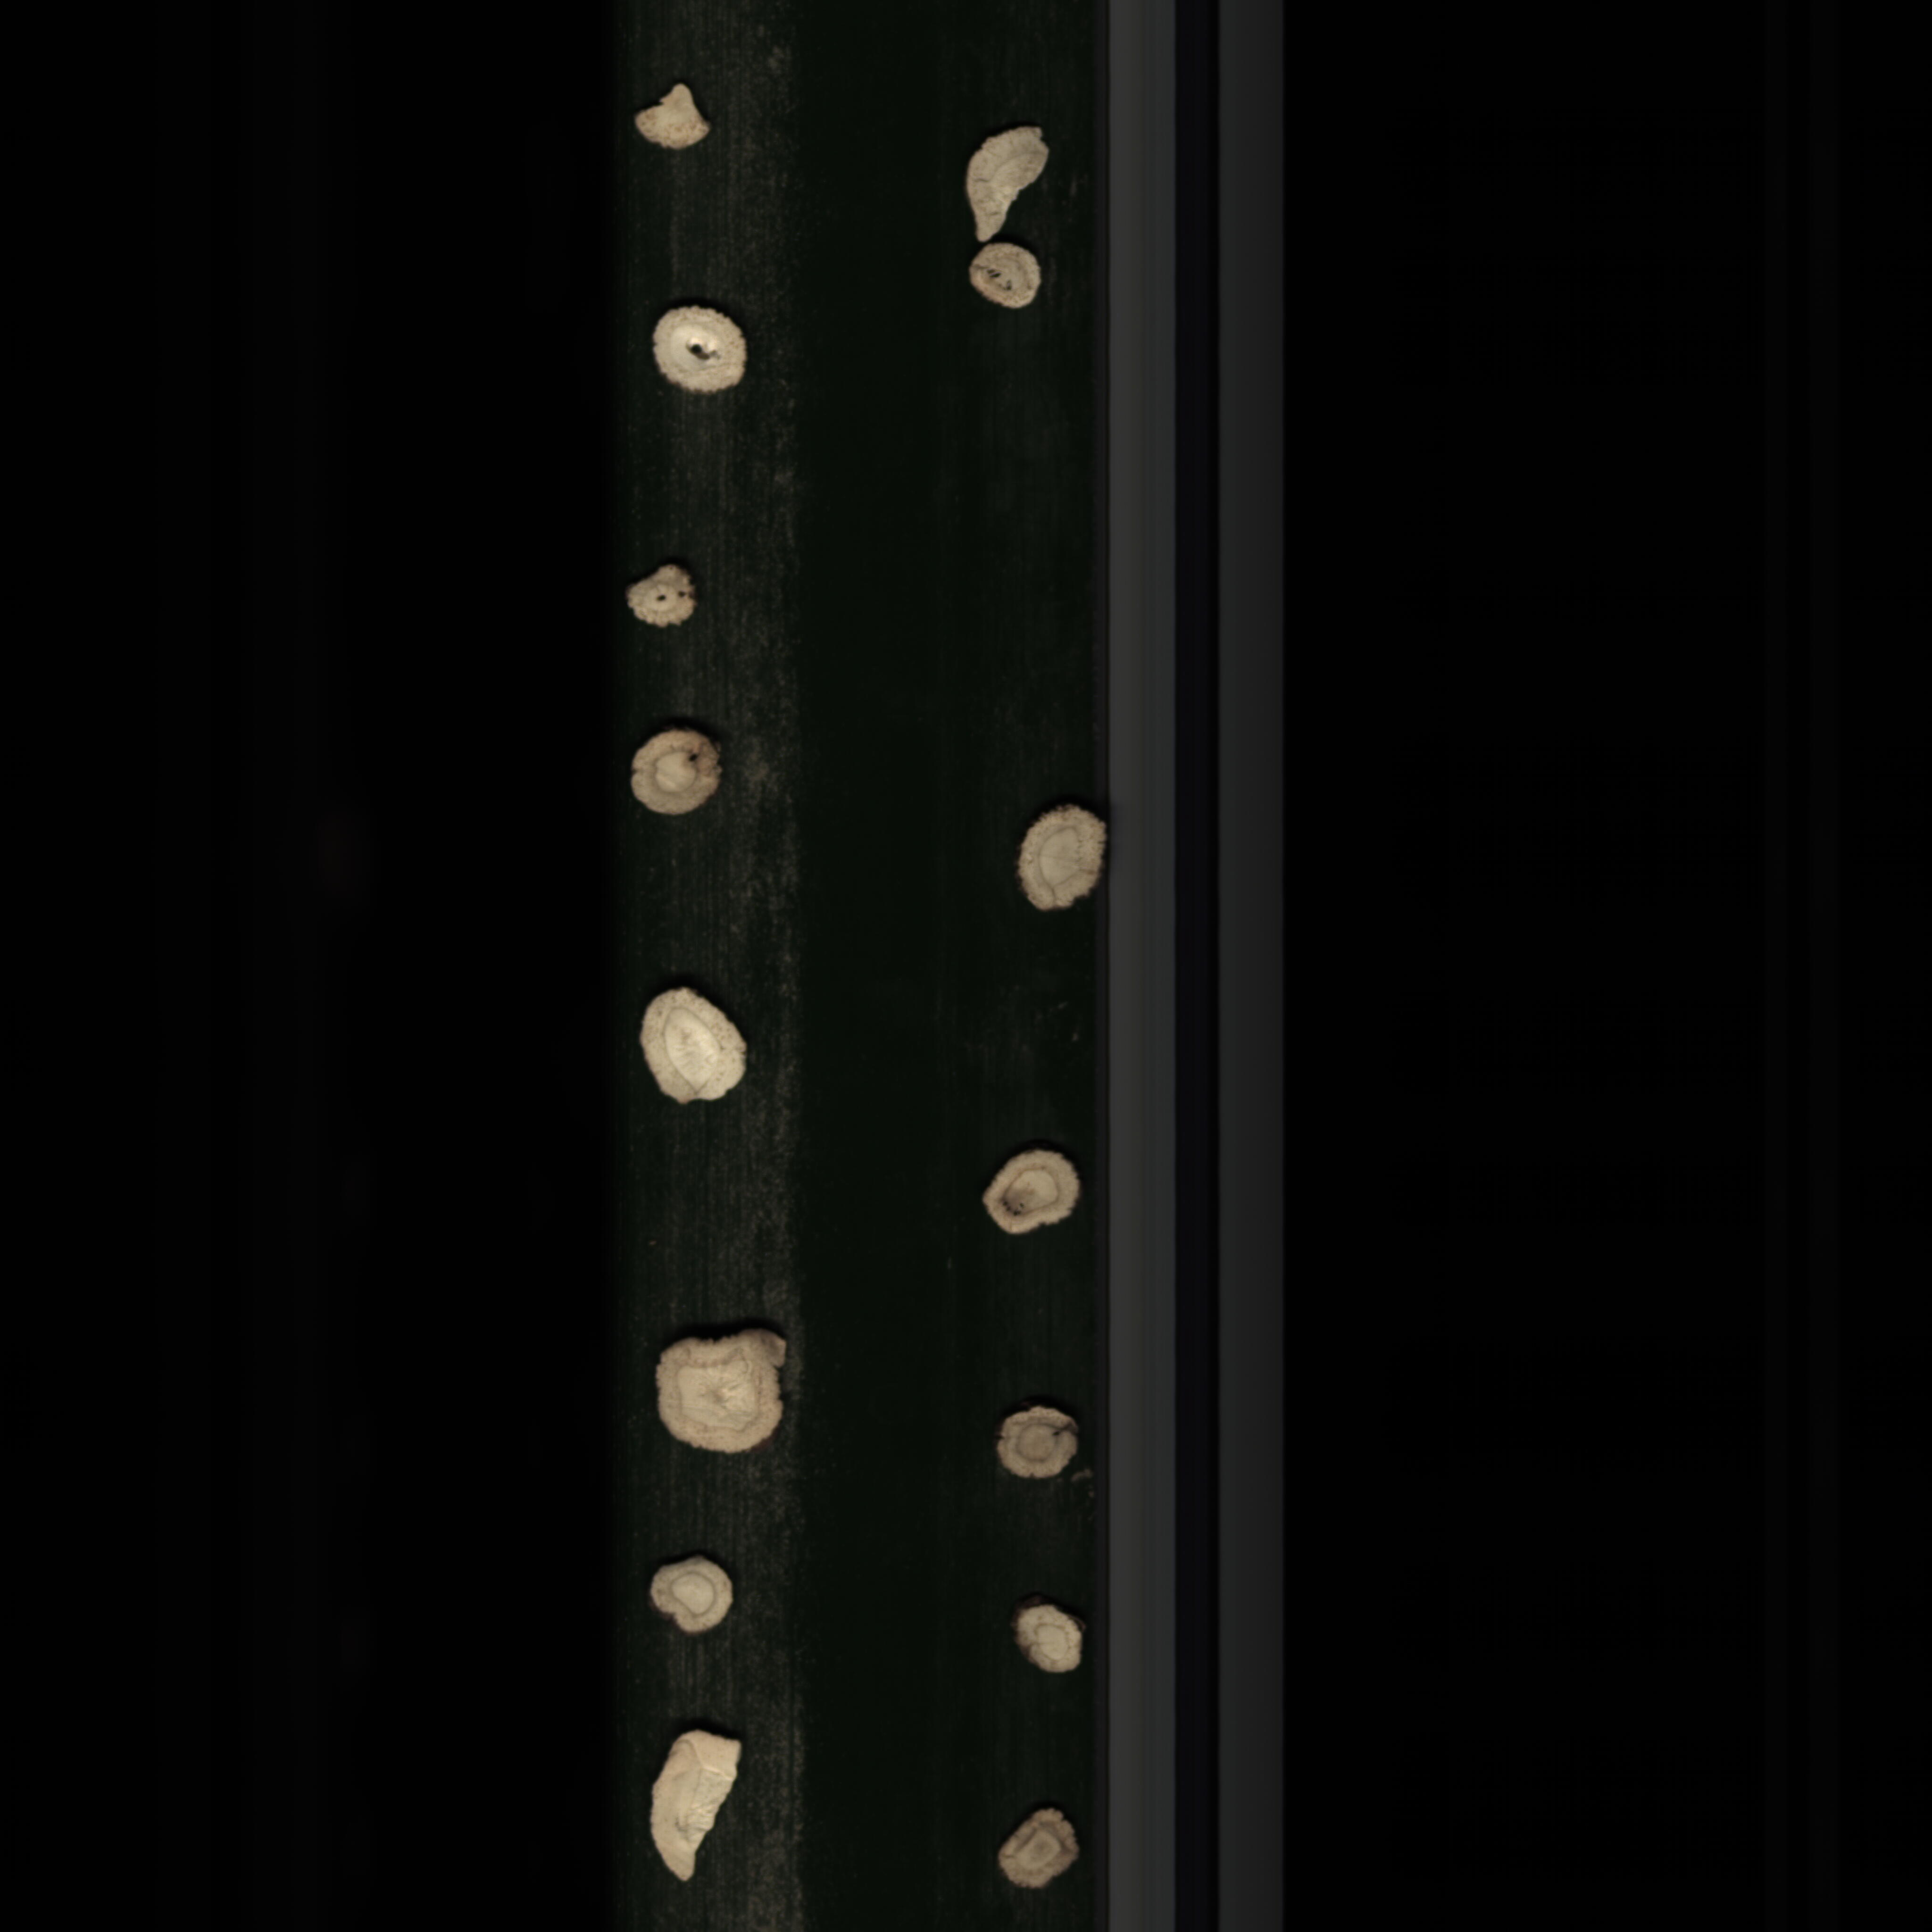debris: (639, 1727, 755, 1882), (962, 111, 1056, 244)
hole: (648, 299, 771, 400), (947, 248, 1049, 331), (617, 559, 713, 640)
moldy: (621, 722, 736, 823), (982, 1799, 1092, 1895), (980, 1148, 1088, 1238), (991, 1399, 1086, 1491)
